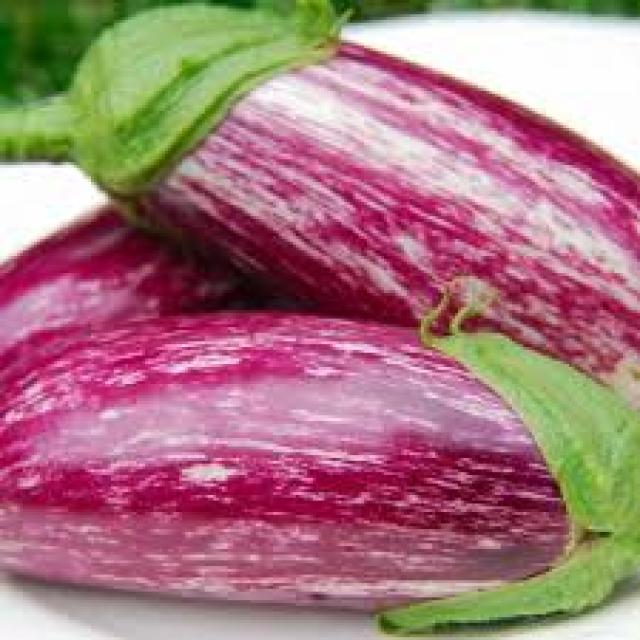organic waste: (0, 0, 637, 373), (0, 293, 637, 637), (0, 0, 637, 108), (0, 202, 270, 370)
